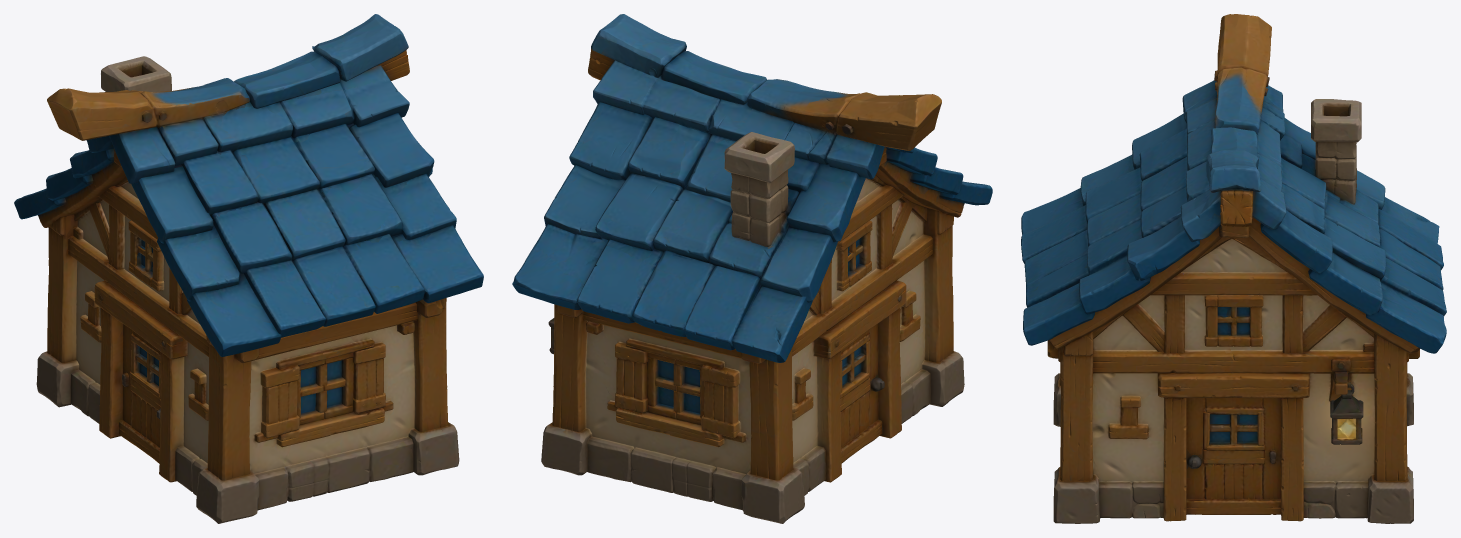
The model's file is stylized-cottage-3d-model.glb.
The picture shows the model from 3 angles, left to right: view 1: azimuth 30°, elevation 25°; view 2: azimuth 150°, elevation 25°; view 3: azimuth 270°, elevation 25°; orthographic projection. The views are drawn at different scales.
Parts seen in each view (by area): view 1: tripo_node_8045017b-35b1-47e2-91a6-81825b17b950; view 2: tripo_node_8045017b-35b1-47e2-91a6-81825b17b950; view 3: tripo_node_8045017b-35b1-47e2-91a6-81825b17b950.
Boxes of the visible parts, x1,y1,x2,y2 form: tripo_node_8045017b-35b1-47e2-91a6-81825b17b950: [14, 14, 483, 523]; tripo_node_8045017b-35b1-47e2-91a6-81825b17b950: [512, 14, 992, 523]; tripo_node_8045017b-35b1-47e2-91a6-81825b17b950: [1021, 14, 1446, 523].
Bounding box in the file's own units: 0.887 × 0.9406 × 0.9805.
1 material, 1 textured.
